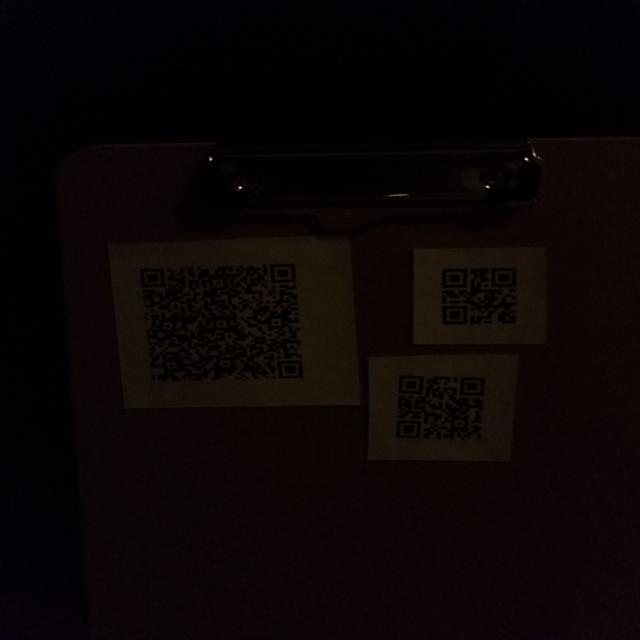QR_CODE: (126, 250, 318, 392), (378, 366, 503, 454), (420, 255, 533, 338)
